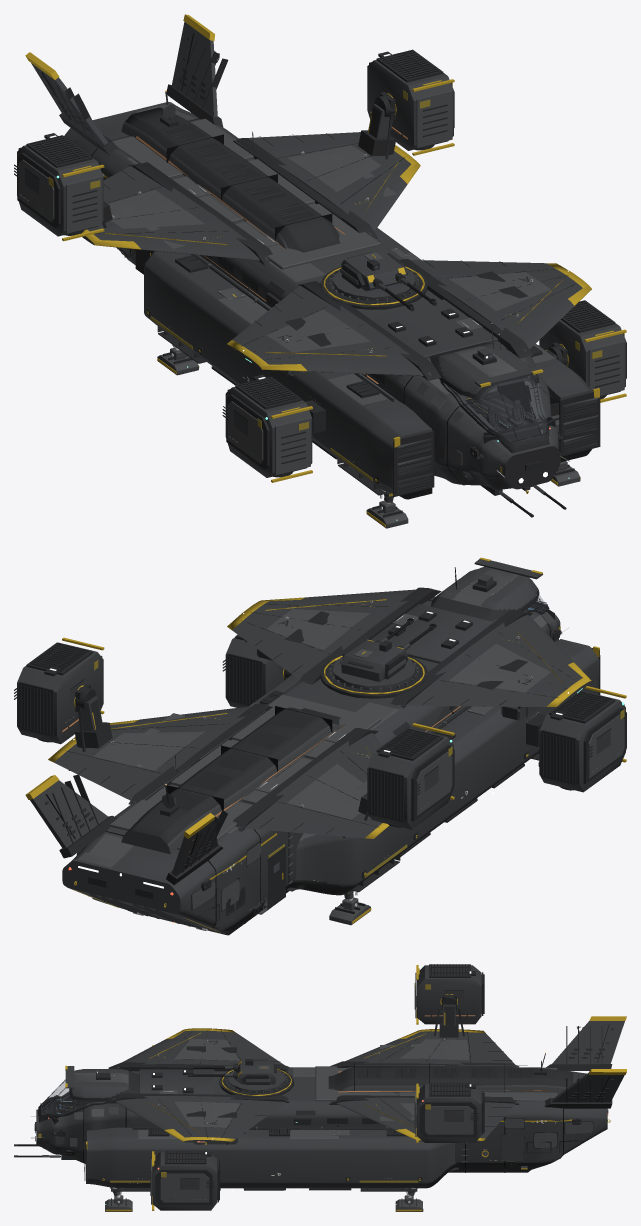
The model's file is HarpyieFern.glb.
3 renders of one model, top to bottom at view 1: azimuth 30°, elevation 25°; view 2: azimuth 150°, elevation 25°; view 3: azimuth 270°, elevation 25°, orthographic. The views are drawn at different scales.
Parts seen in each view (by area): view 1: Dachpanzer.004, Andockring.006, Dachpanzer.005, Bugstirn.001, Auslegerholm.004, Behaeltergitter.002, Kanzelglas.001, Gondelklappe.010, Duesenschaufel.112, Duesenschaufel.096, Andockkern.006, Einlassschlitz.006 (+18 smaller); view 2: Dachpanzer.004, Dachpanzer.005, Andockring.006, Bugstirn.001, Auslegerholm.004, Behaeltergitter.002, Gondelklappe.010, Andockkern.006, Auslassrahmen.007, Auslassrahmen.006, Gondelklappe.012, Gondelklappe.014 (+14 smaller); view 3: Dachpanzer.004, Andockring.006, Dachpanzer.005, Bugstirn.001, Auslegerholm.004, Gondelklappe.014, Behaeltergitter.002, Andockkern.006, Gondelklappe.008, Gondelklappe.010, Duesenschaufel.064, Duesenschaufel.080 (+11 smaller).
Boxes of the visible parts, <box> form: Dachpanzer.004: <box>64,102,592,489</box>; Andockring.006: <box>40,37,600,517</box>; Dachpanzer.005: <box>108,102,555,405</box>; Bugstirn.001: <box>97,107,591,499</box>; Auslegerholm.004: <box>31,22,598,503</box>; Behaeltergitter.002: <box>58,68,596,494</box>; Kanzelglas.001: <box>375,266,562,458</box>; Gondelklappe.010: <box>367,59,453,150</box>; Duesenschaufel.112: <box>18,159,102,233</box>; Duesenschaufel.096: <box>227,401,310,474</box>; Andockkern.006: <box>60,51,547,478</box>; Einlassschlitz.006: <box>157,326,596,495</box>; Dachpanzer.004: <box>53,566,599,931</box>; Dachpanzer.005: <box>72,568,550,867</box>; Andockring.006: <box>45,567,600,920</box>; Bugstirn.001: <box>101,594,599,935</box>; Auslegerholm.004: <box>30,559,558,876</box>; Behaeltergitter.002: <box>62,611,527,922</box>; Gondelklappe.010: <box>17,642,103,744</box>; Andockkern.006: <box>64,602,547,914</box>; Auslassrahmen.007: <box>369,728,454,827</box>; Auslassrahmen.006: <box>541,692,626,790</box>; Gondelklappe.012: <box>539,691,625,792</box>; Gondelklappe.014: <box>367,728,453,829</box>; Dachpanzer.004: <box>36,1028,607,1183</box>; Andockring.006: <box>14,994,613,1190</box>; Dachpanzer.005: <box>74,1039,556,1138</box>; Bugstirn.001: <box>36,1038,573,1188</box>; Auslegerholm.004: <box>42,1004,624,1172</box>; Gondelklappe.014: <box>416,965,481,1024</box>; Behaeltergitter.002: <box>34,1046,608,1180</box>; Andockkern.006: <box>70,1026,592,1162</box>; Gondelklappe.008: <box>152,1151,217,1210</box>; Gondelklappe.010: <box>416,1084,481,1142</box>; Duesenschaufel.064: <box>151,1159,209,1204</box>; Duesenschaufel.080: <box>415,1091,473,1136</box>.
Bounding box in the file's own units: 19.69 × 10.18 × 37.56.
